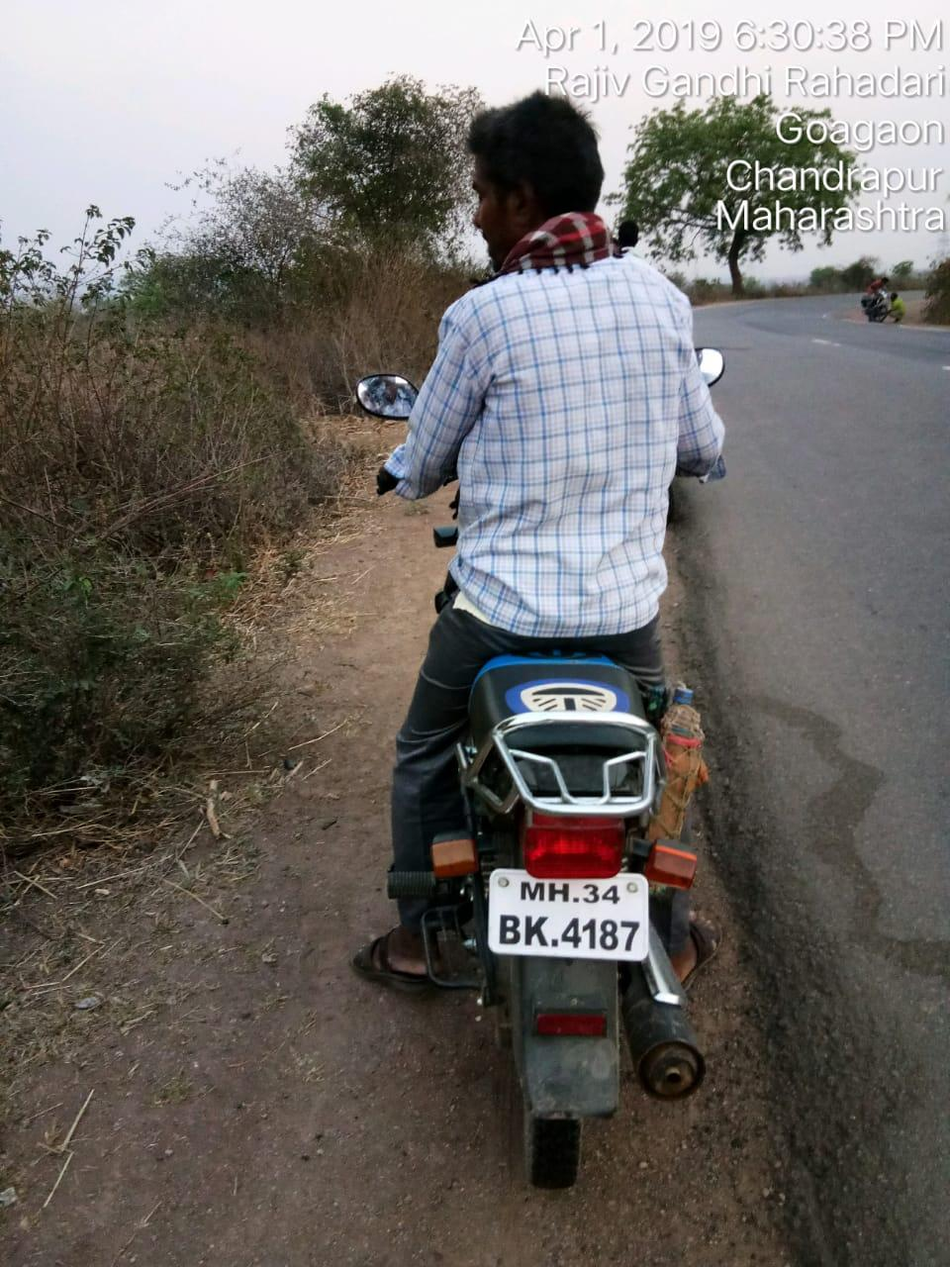plate: (474, 856, 668, 977)
